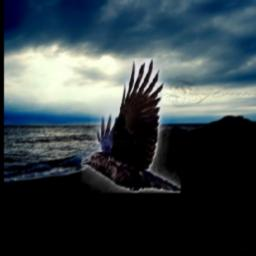Crow: (81, 58, 181, 193)
